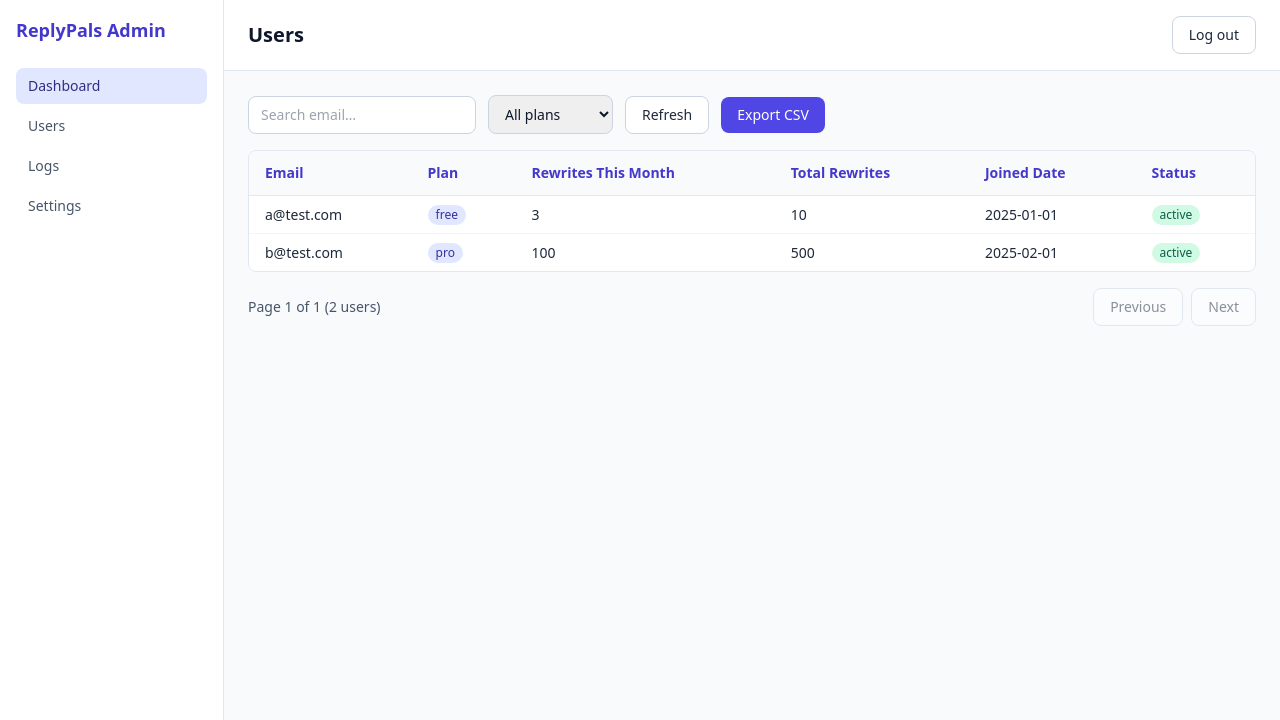
Test: UsersPage › clicking a row opens UserDetailDrawer
The image size is (1280, 720).
What coordinates should you click on to do the following:
click the text "a@test.com"
I would click on:
 (330, 214)
Its box is [249,196,412,234].
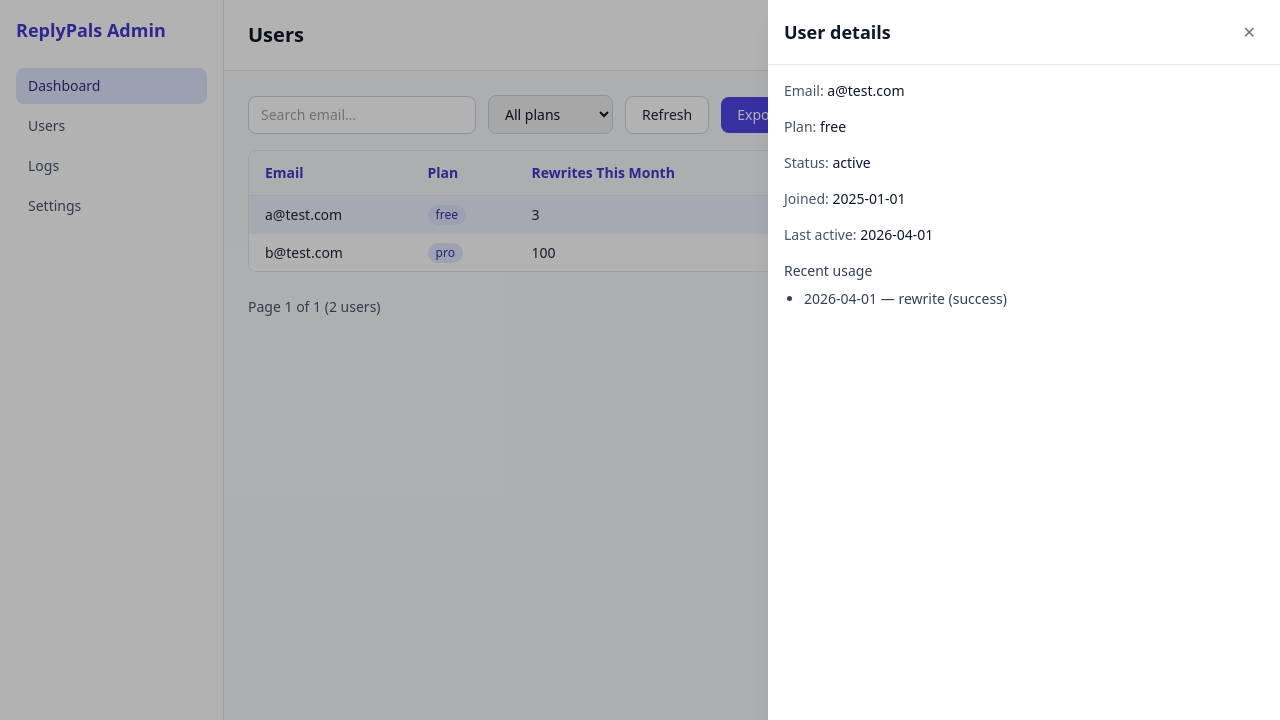
Now the dialog is shown
